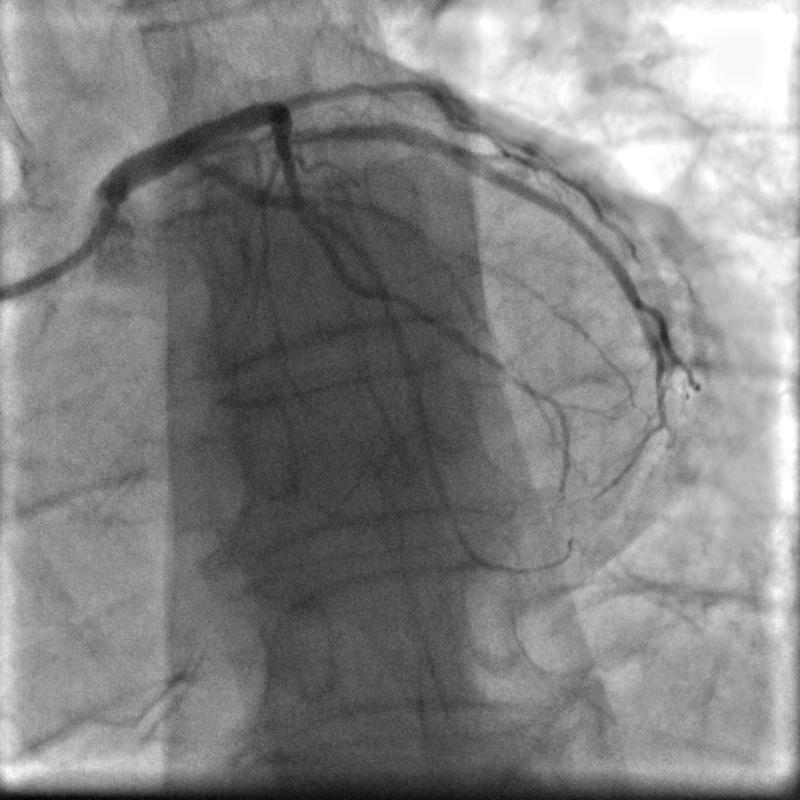Stenosis: (270, 120, 299, 168)
